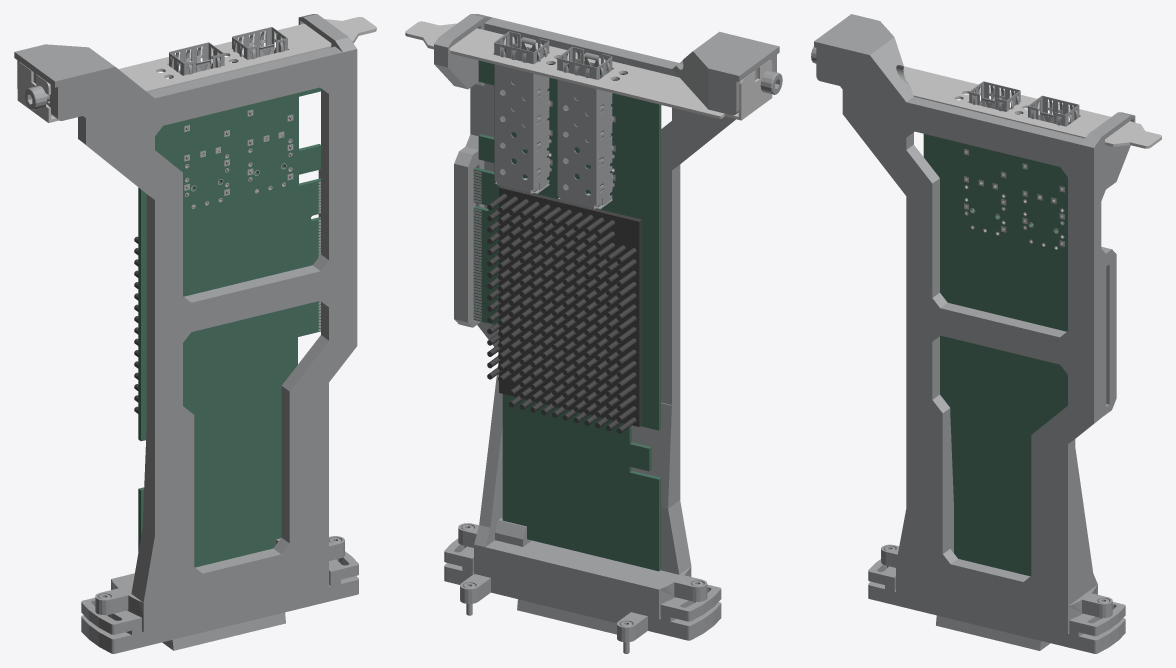
3 views of the same model, side by side, from view 1: azimuth 30°, elevation 25°; view 2: azimuth 150°, elevation 25°; view 3: azimuth 330°, elevation 25° (orthographic). The views are drawn at different scales.
Parts seen in each view (by area): view 1: my_object_centered; view 2: my_object_centered; view 3: my_object_centered.
Part boxes in pixels (x1,y1,x2,y2): my_object_centered: (14, 14, 376, 653); my_object_centered: (405, 14, 782, 653); my_object_centered: (811, 14, 1161, 653).
Size of the model in its own units: 126 by 206 by 31.
